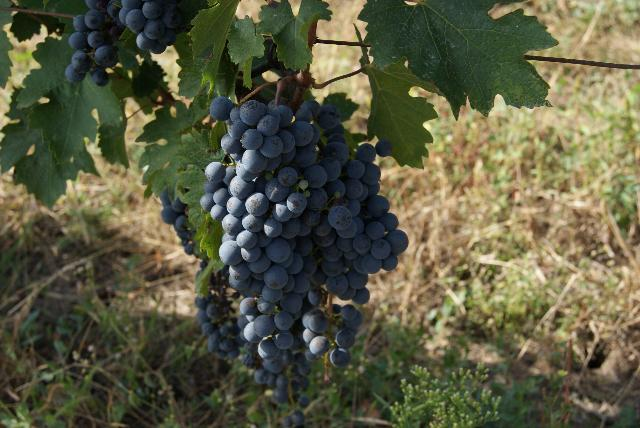grapes: (196, 98, 408, 408)
